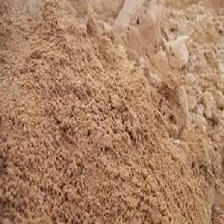sandy_soil: (9, 22, 209, 195)
